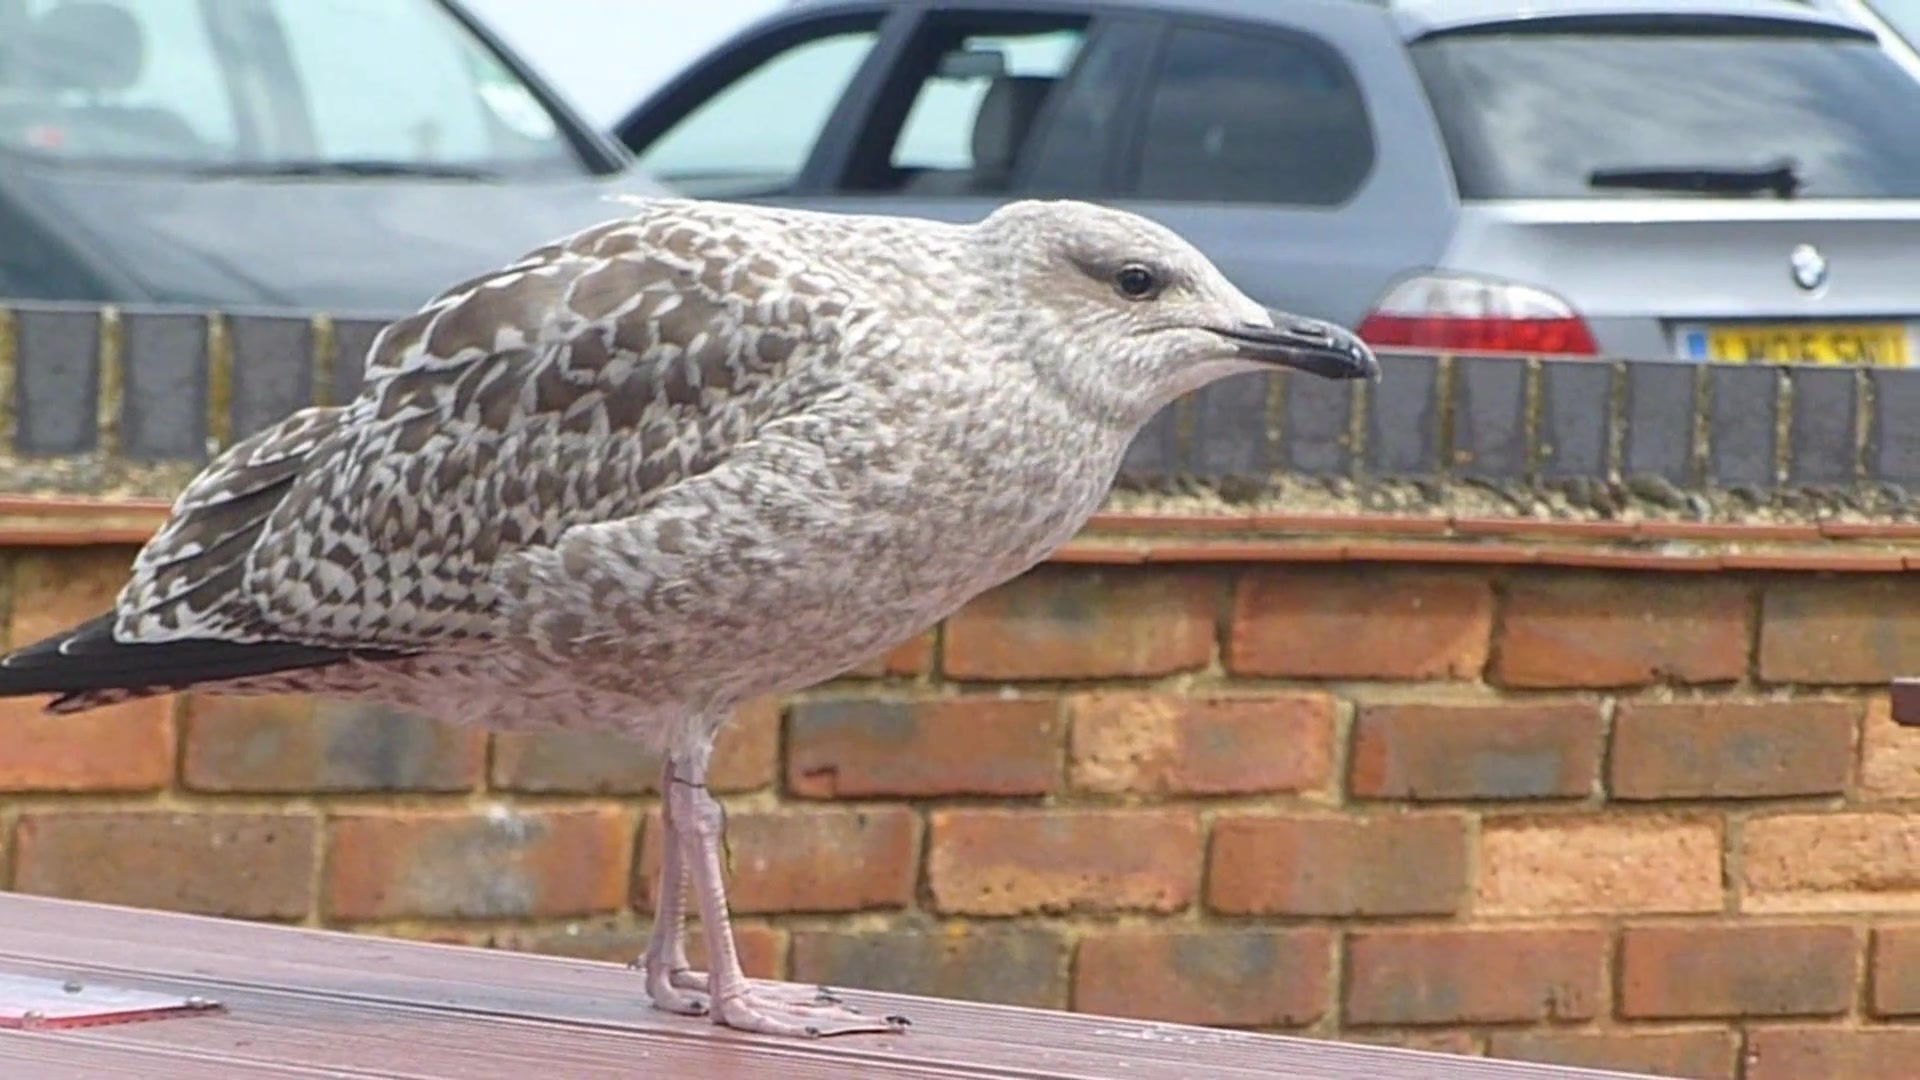bird: (1, 196, 1393, 1035)
